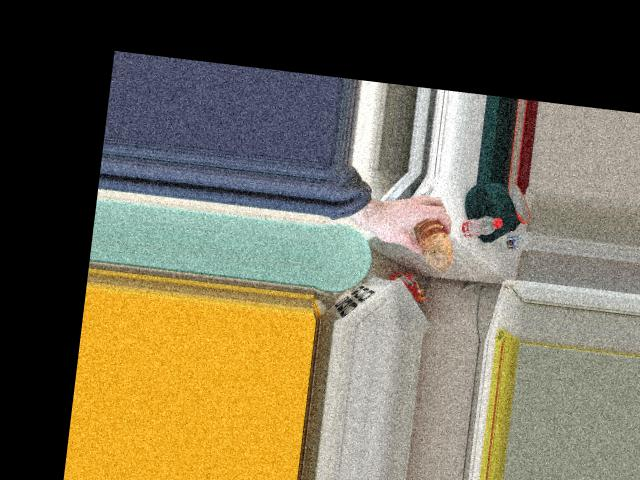sweet_potato: (410, 215, 458, 263)
